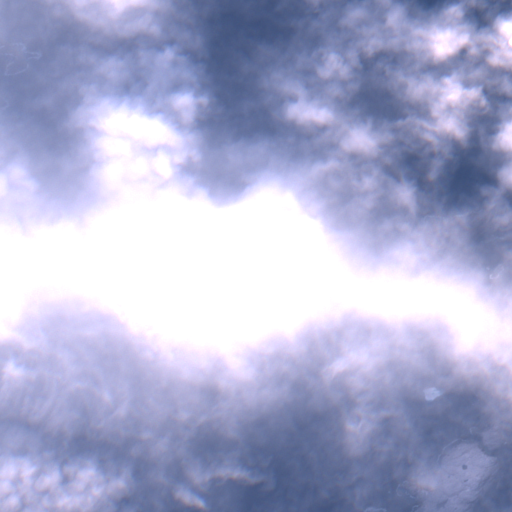Iceberg: (424, 388, 441, 400)
